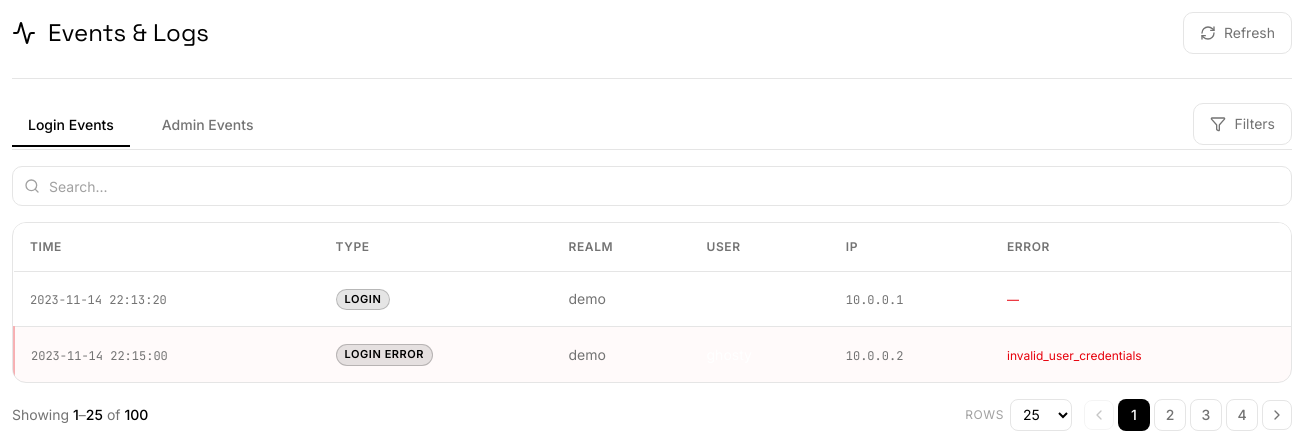
Test: EventListPage › shows the resolved admin username on the admin tab
Click the button "Admin Events" at (208, 126), box [146,105,269,147]
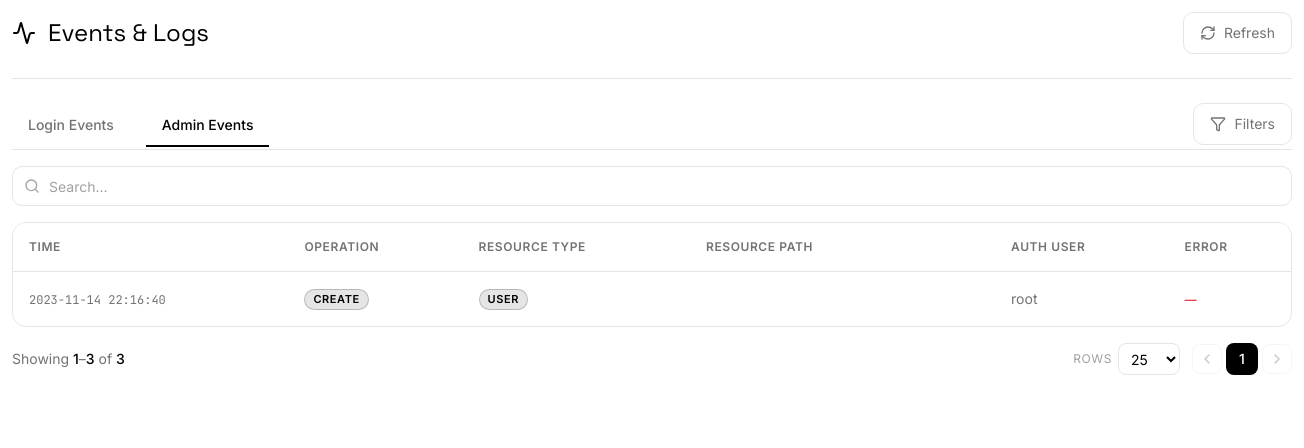
Expected: the text "root" is shown, [1011,290,1038,307]
